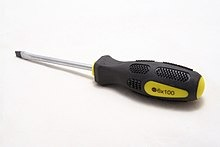screwdriver: (12, 47, 207, 104)
